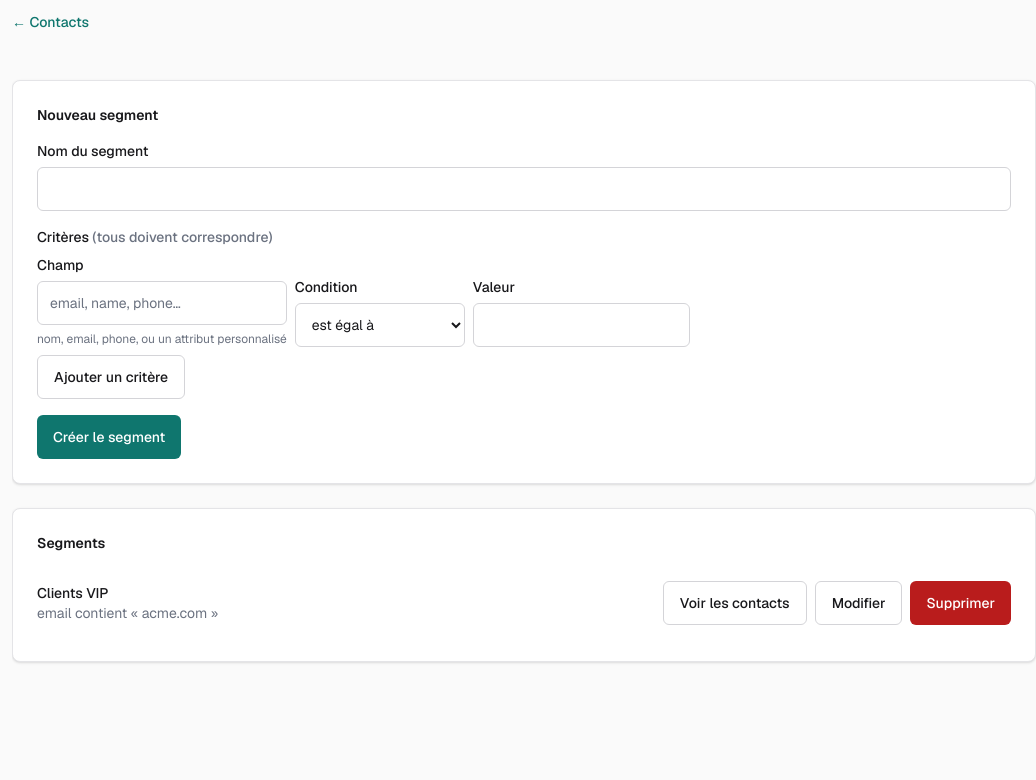
ContactSegmentsPage › affiche les contacts d'un segment
Check: the text "Clients VIP" is shown, box [37,584,108,602]
Click the button "Voir les contacts" at (735, 603), box [663,581,807,625]
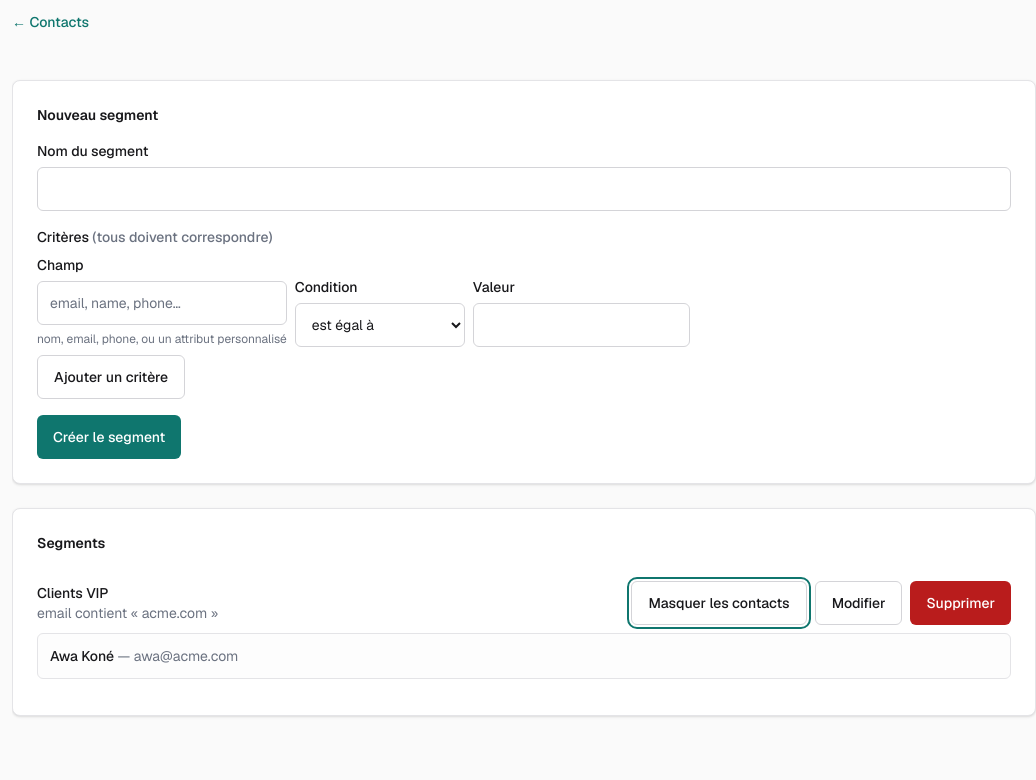
Check: the link "Awa Koné" is shown, box [50,647,114,665]
